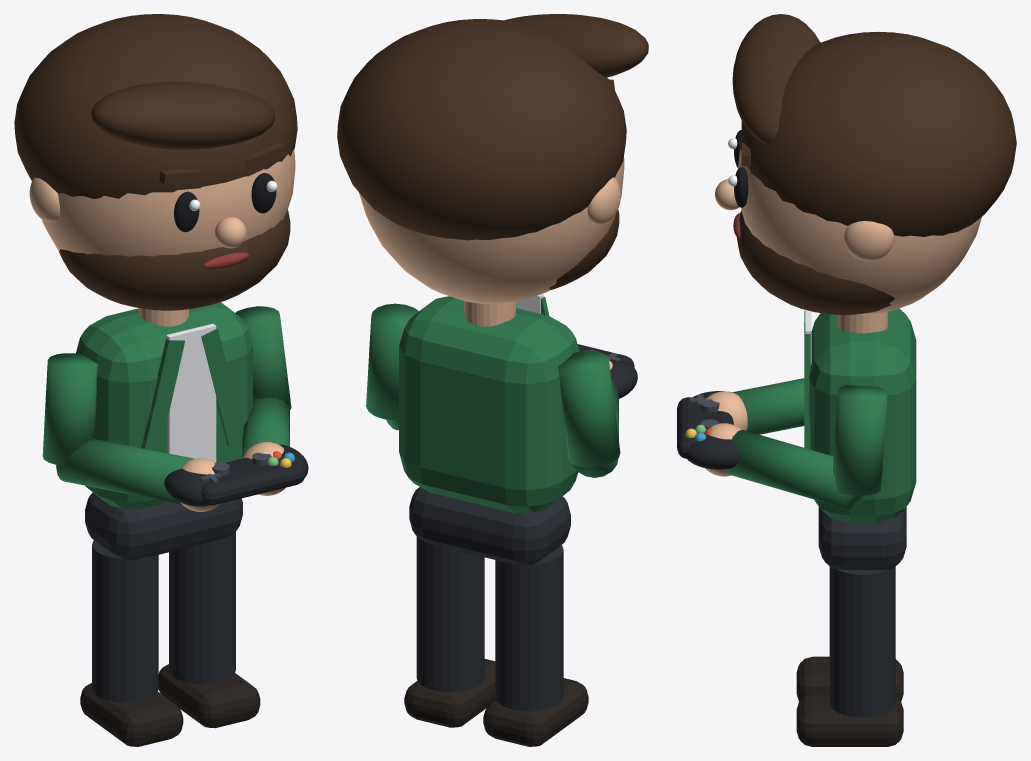
The model's file is adulto_control.glb.
The picture shows the model from 3 angles, left to right: view 1: azimuth 30°, elevation 25°; view 2: azimuth 150°, elevation 25°; view 3: azimuth 270°, elevation 25°; orthographic projection. The views are drawn at different scales.
Parts seen in each view (by area): view 1: Sphere.012, Cube.003, Sphere.002, Sphere.010, Sphere.013, Cylinder, Cylinder.001, Cube.002, Cube.004, Cylinder.003, Cylinder.002, Cube (+17 smaller); view 2: Sphere.012, Cube.003, Sphere.002, Cylinder, Cylinder.001, Cube.002, Cylinder.002, Sphere.013, Cylinder.004, Cube, Cube.001, Sphere.010 (+4 smaller); view 3: Sphere.012, Cube.003, Sphere.002, Cylinder.001, Sphere.013, Sphere.010, Cylinder.004, Cylinder.005, Cube.002, Cube.001, Cylinder.003, Sphere.006 (+6 smaller).
Part boxes in pixels (x1,y1,x2,y2): Sphere.012: (14, 14, 297, 198); Cube.003: (76, 302, 252, 509); Sphere.002: (42, 150, 295, 256); Sphere.010: (59, 210, 290, 310); Sphere.013: (91, 81, 275, 149); Cylinder: (92, 540, 158, 702); Cylinder.001: (169, 531, 235, 683); Cube.002: (85, 492, 242, 559); Cube.004: (166, 323, 216, 462); Cylinder.003: (56, 439, 193, 504); Cylinder.002: (42, 353, 97, 465); Cube: (80, 683, 183, 746); Sphere.012: (337, 19, 626, 240); Cube.003: (399, 296, 579, 513); Sphere.002: (359, 157, 624, 304); Cylinder: (495, 545, 563, 711); Cylinder.001: (416, 536, 484, 692); Cube.002: (409, 487, 570, 565); Cylinder.002: (558, 351, 620, 467); Sphere.013: (504, 14, 648, 77); Cylinder.004: (366, 303, 418, 420); Cube: (483, 678, 588, 746); Cube.001: (404, 659, 495, 727); Sphere.010: (549, 209, 619, 290); Sphere.012: (740, 31, 1016, 236); Cube.003: (809, 308, 916, 522); Sphere.002: (738, 149, 981, 314); Cylinder.001: (829, 567, 895, 717); Sphere.013: (732, 14, 820, 143); Sphere.010: (736, 210, 895, 315); Cylinder.004: (833, 385, 887, 495); Cylinder.005: (726, 429, 863, 509); Cube.002: (818, 507, 906, 569); Cube.001: (796, 694, 903, 746); Cylinder.003: (732, 378, 804, 434); Sphere.006: (844, 221, 893, 261).
Size of the model in its own units: 0.916 by 2.35 by 1.08.
